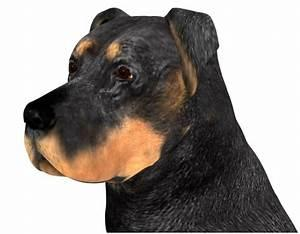dog: (22, 6, 298, 232)
